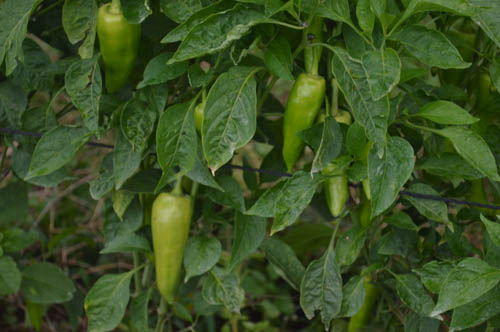ChiliPepper: (273, 51, 332, 176), (144, 184, 199, 307), (86, 1, 145, 102), (440, 15, 479, 90), (316, 160, 353, 225), (295, 10, 329, 77), (342, 274, 379, 332), (188, 100, 215, 144), (21, 303, 44, 332)
